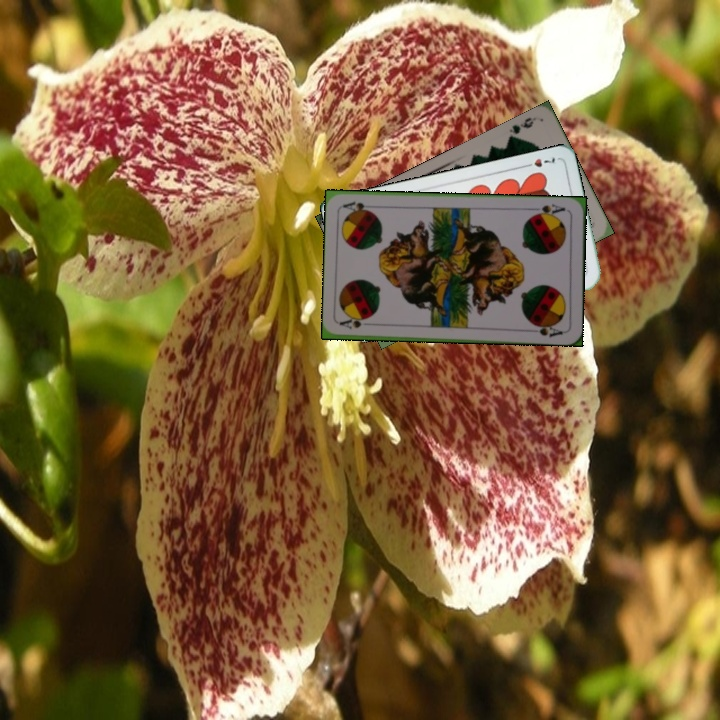G9: (504, 113, 536, 142)
H7: (519, 153, 558, 170)
SA: (528, 200, 567, 219), (337, 315, 370, 331)
